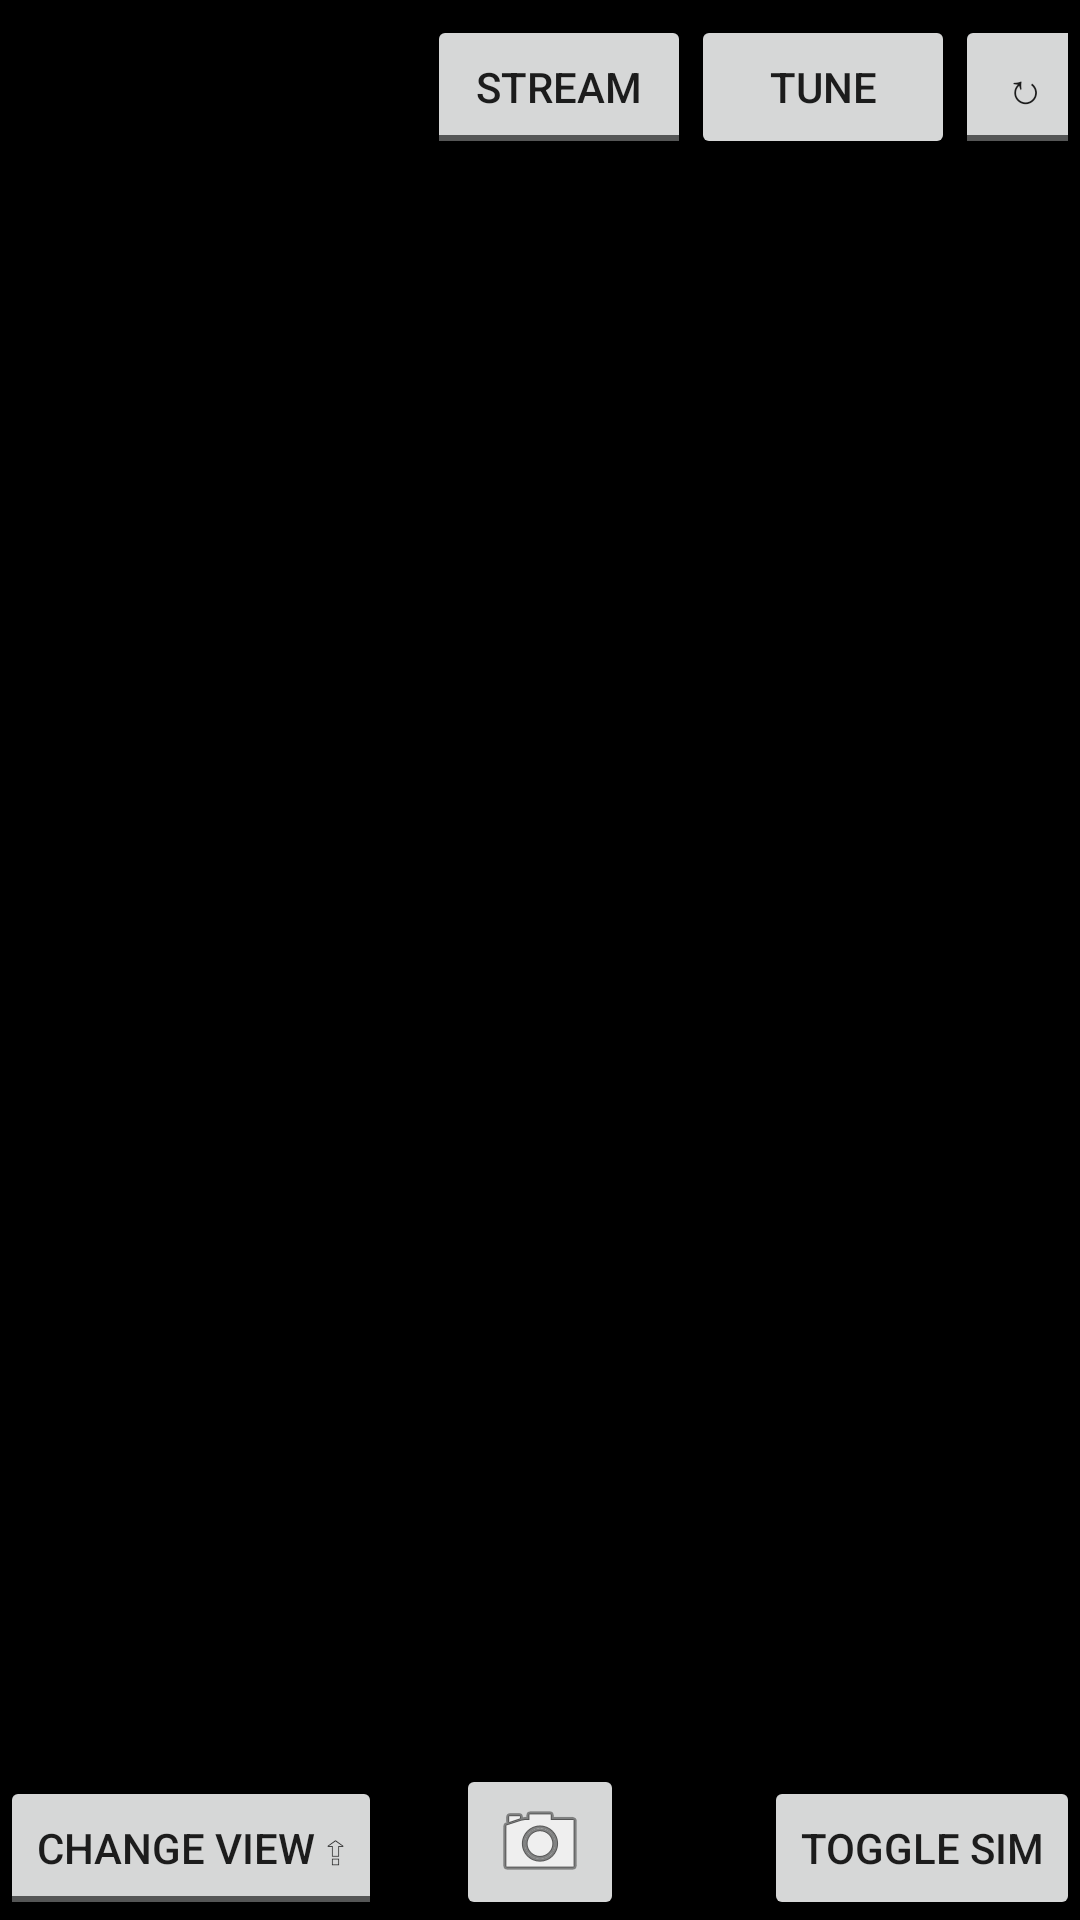

Where icons sit on this 1080×1920 app screen, as BBox(x1, y1, x2, y2):
camera: BBox(468, 1782, 612, 1902)
